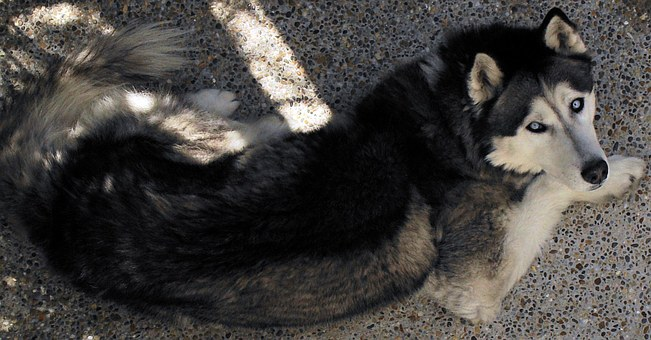husky: (29, 7, 638, 311)
